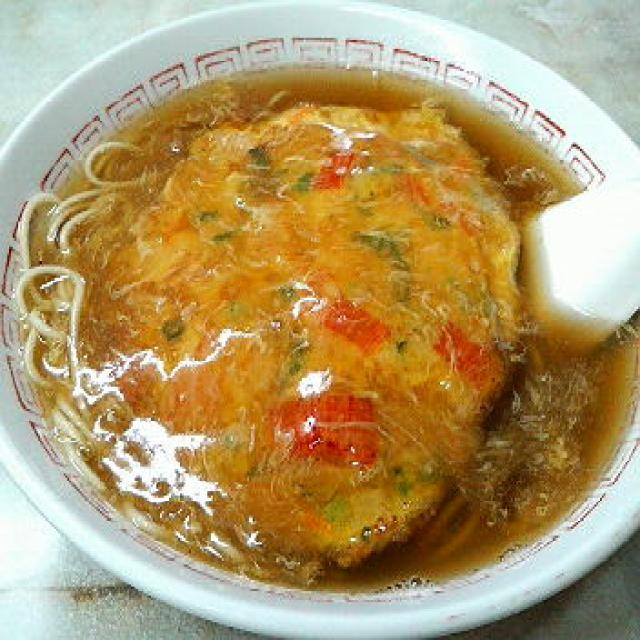面条主食: (34, 58, 631, 591)
